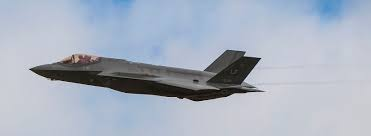fighter: (27, 45, 270, 104)
